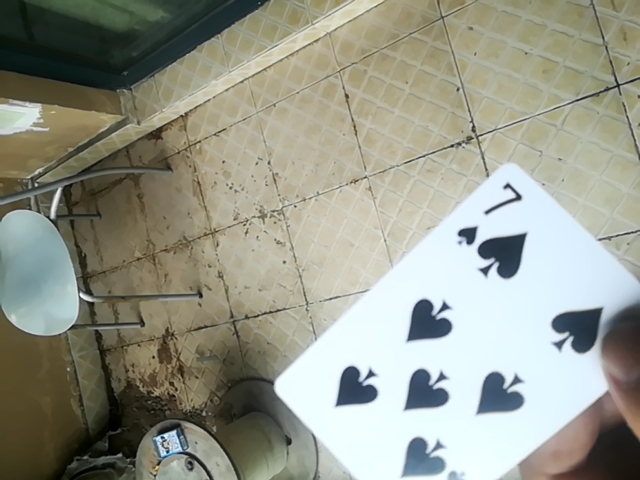ht 7: (263, 164, 640, 480)
